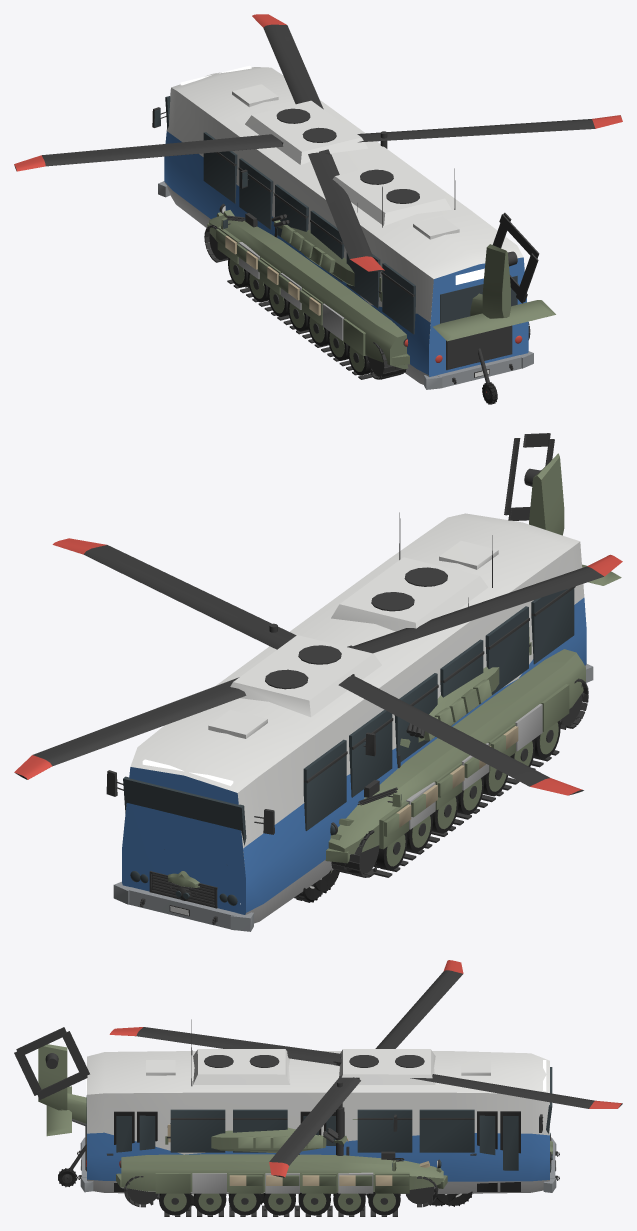
File: props2.glb
3 views of the same model, one above another, from view 1: azimuth 30°, elevation 25°; view 2: azimuth 150°, elevation 25°; view 3: azimuth 270°, elevation 25° (orthographic). The views are drawn at different scales.
Parts seen in each view (by area): view 1: BUS, HELI, TANK; view 2: BUS, TANK, HELI; view 3: BUS, TANK, HELI, TRUCK.
Part boxes in pixels (x1,y1,x2,y2): BUS: (152,65,533,389); HELI: (14,14,622,404); TANK: (204,168,530,379); BUS: (106,513,593,931); TANK: (325,512,588,877); HELI: (14,433,622,900); BUS: (77,1049,559,1206); TANK: (116,1019,447,1216); HELI: (14,960,622,1202); TRUCK: (165,1081,456,1206).
Size of the model in its own units: 12.37 by 4.35 by 14.67.
